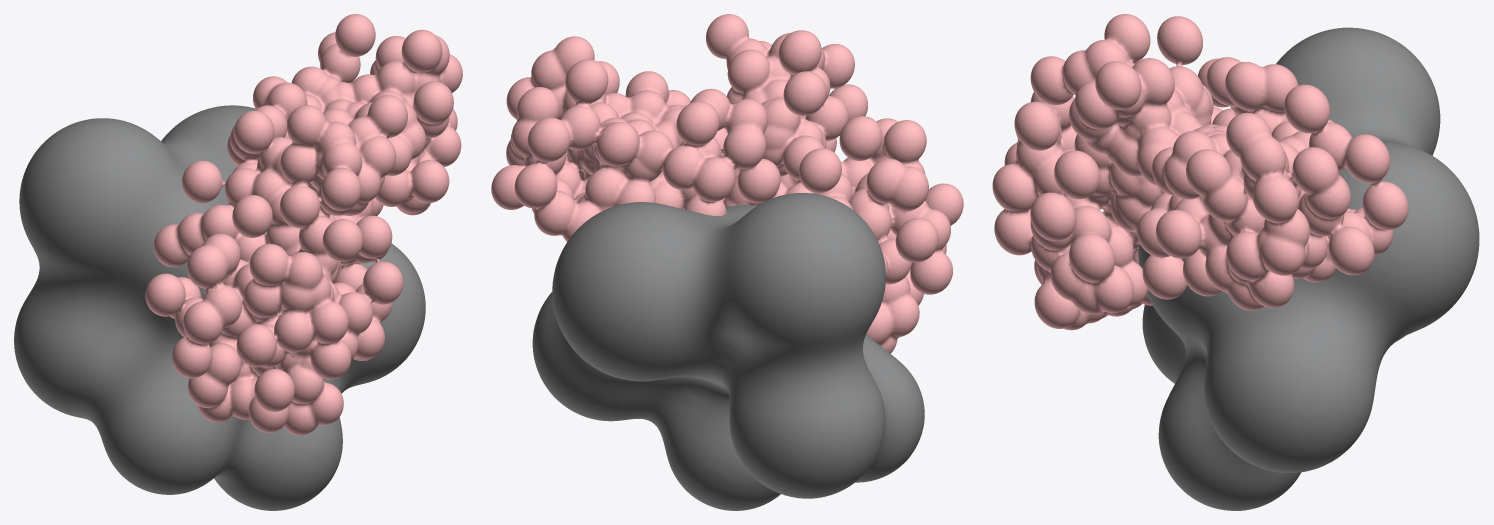
File: Metaball.glb
3 views of the same model, side by side, from view 1: azimuth 30°, elevation 25°; view 2: azimuth 150°, elevation 25°; view 3: azimuth 270°, elevation 25° (orthographic). The views are drawn at different scales.
Visible parts, largest first — view 1: Metaball_02.001, Metaball.001; view 2: Metaball.001, Metaball_02.001; view 3: Metaball_02.001, Metaball.001.
Boxes of the visible parts, bbox=[...] form: Metaball_02.001: bbox=[145, 14, 462, 435]; Metaball.001: bbox=[14, 105, 425, 510]; Metaball.001: bbox=[532, 193, 924, 510]; Metaball_02.001: bbox=[491, 14, 963, 353]; Metaball_02.001: bbox=[992, 14, 1408, 330]; Metaball.001: bbox=[1138, 27, 1479, 510].
Size of the model in its own units: 3.26 by 3.41 by 3.14.
